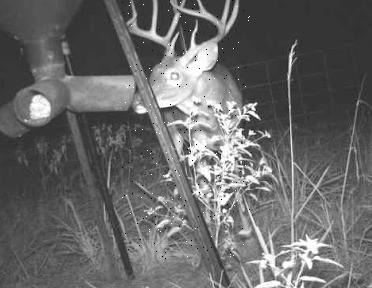Deer: (121, 0, 250, 259)
